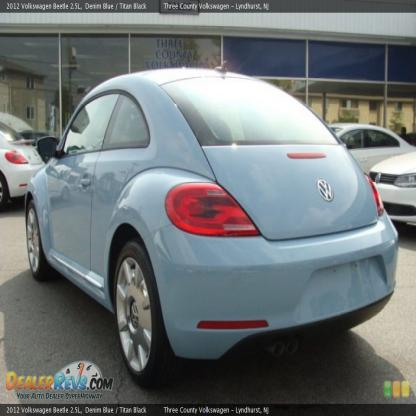Vehicle: (24, 59, 403, 391)
